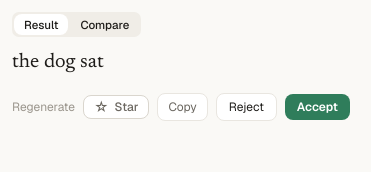
Test case: PolishResult per-hunk accept/reject (WI-7) › shows an N-of-M kept summary that updates as hunks are rejected
Click the button "Compare" at (105, 25), box [70,14,139,35]
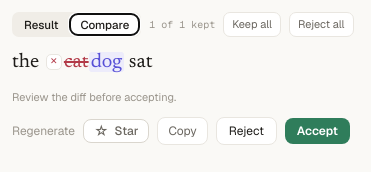
Expected: the text "1 of 1 kept" is shown, [149,17,215,32]
Click the button named "reject this change" at (54, 62), box [46,54,62,70]
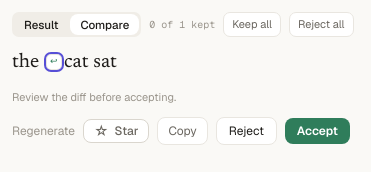
Expected: the text "0 of 1 kept" is shown, [149,17,215,32]
